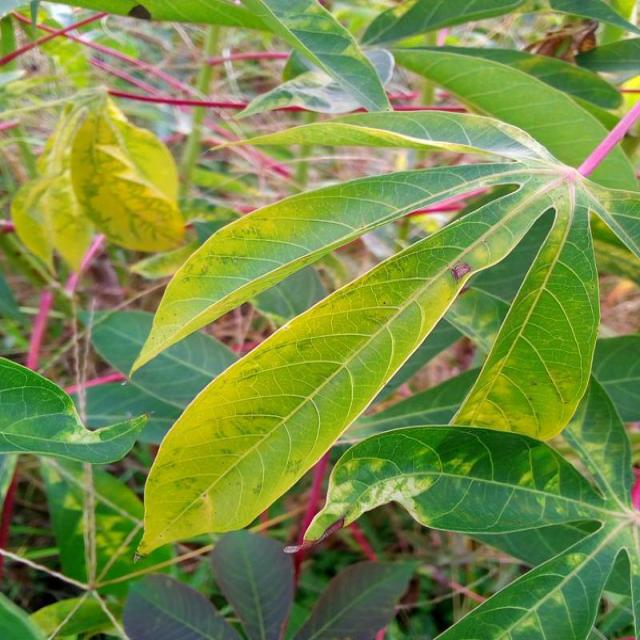cassava leaf: (134, 172, 586, 558), (0, 354, 149, 465)
